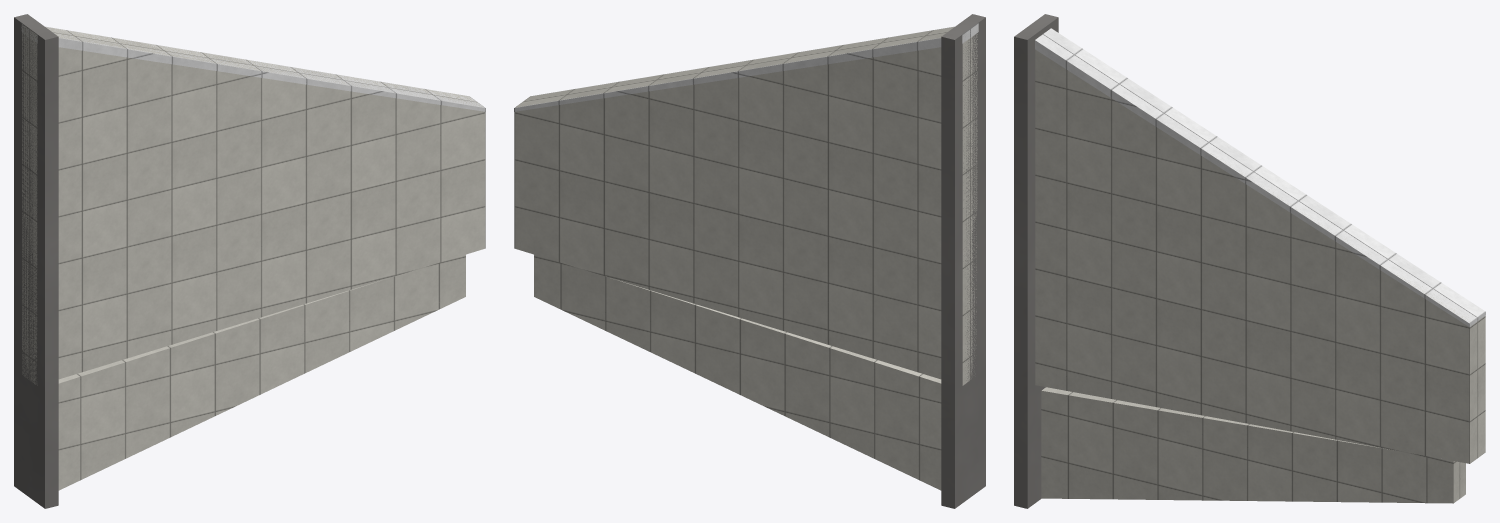
File: aero05_tail_fin_s_vertical.glb
The picture shows the model from 3 angles, left to right: view 1: azimuth 30°, elevation 25°; view 2: azimuth 150°, elevation 25°; view 3: azimuth 330°, elevation 25°; orthographic projection.
Visible parts, largest first — view 1: fin, surface_rudder, root_flange, fin_le; view 2: fin, surface_rudder, root_flange, fin_le; view 3: fin, surface_rudder, fin_le, root_flange.
Part boxes in pixels (x1,y1,x2,y2): fin: (22,23,485,385); surface_rudder: (58,254,465,490); root_flange: (14,14,58,508); fin_le: (21,23,485,111); fin: (514,27,977,385); surface_rudder: (534,254,941,490); root_flange: (941,14,985,508); fin_le: (514,23,978,111); fin: (1035,50,1485,463); surface_rudder: (1041,387,1465,503); fin_le: (1035,28,1485,327); root_flange: (1014,14,1058,508).
Size of the model in its own units: 1.5 by 1.5 by 0.18.
Materials: 3 (3 with a texture image).
